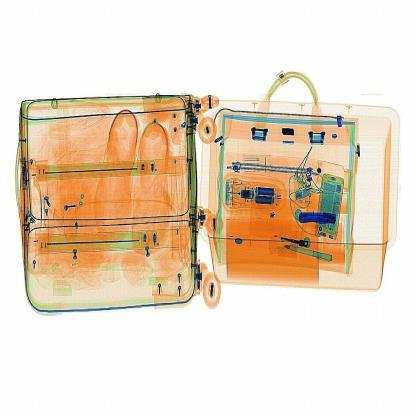knife: (295, 209, 338, 227)
